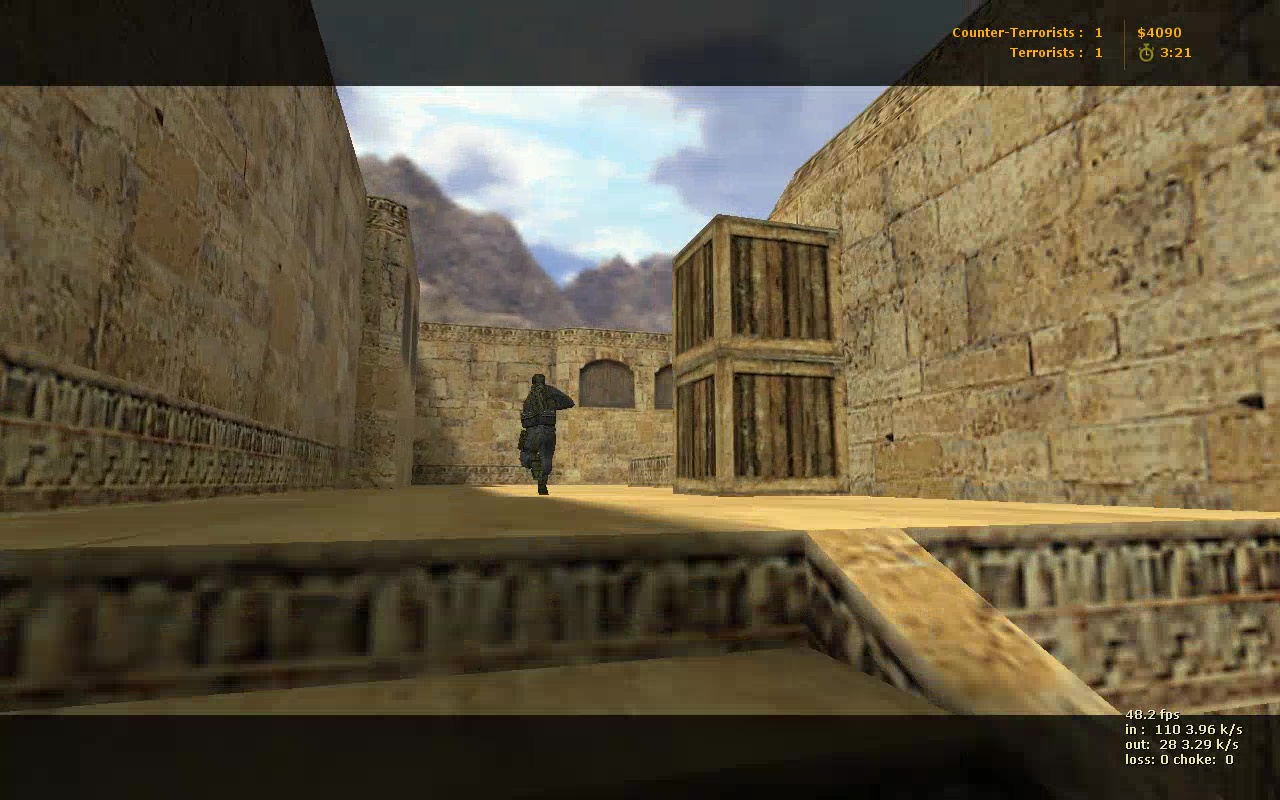ct: (516, 372, 574, 496)
